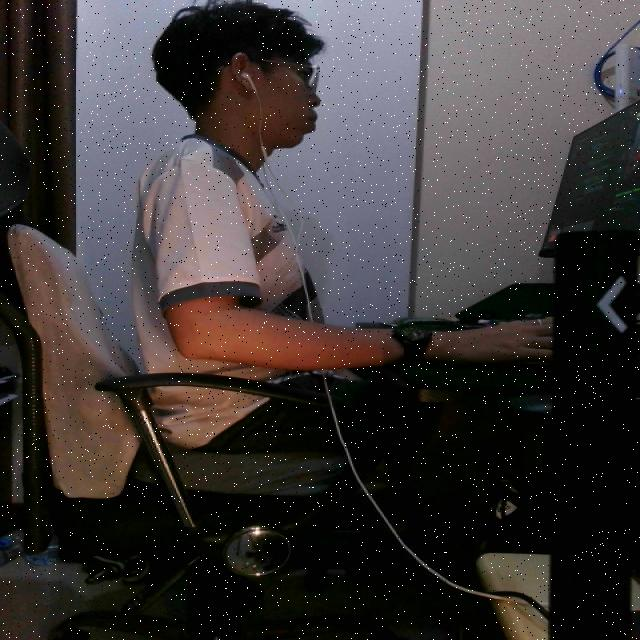Good: (123, 3, 438, 467)
